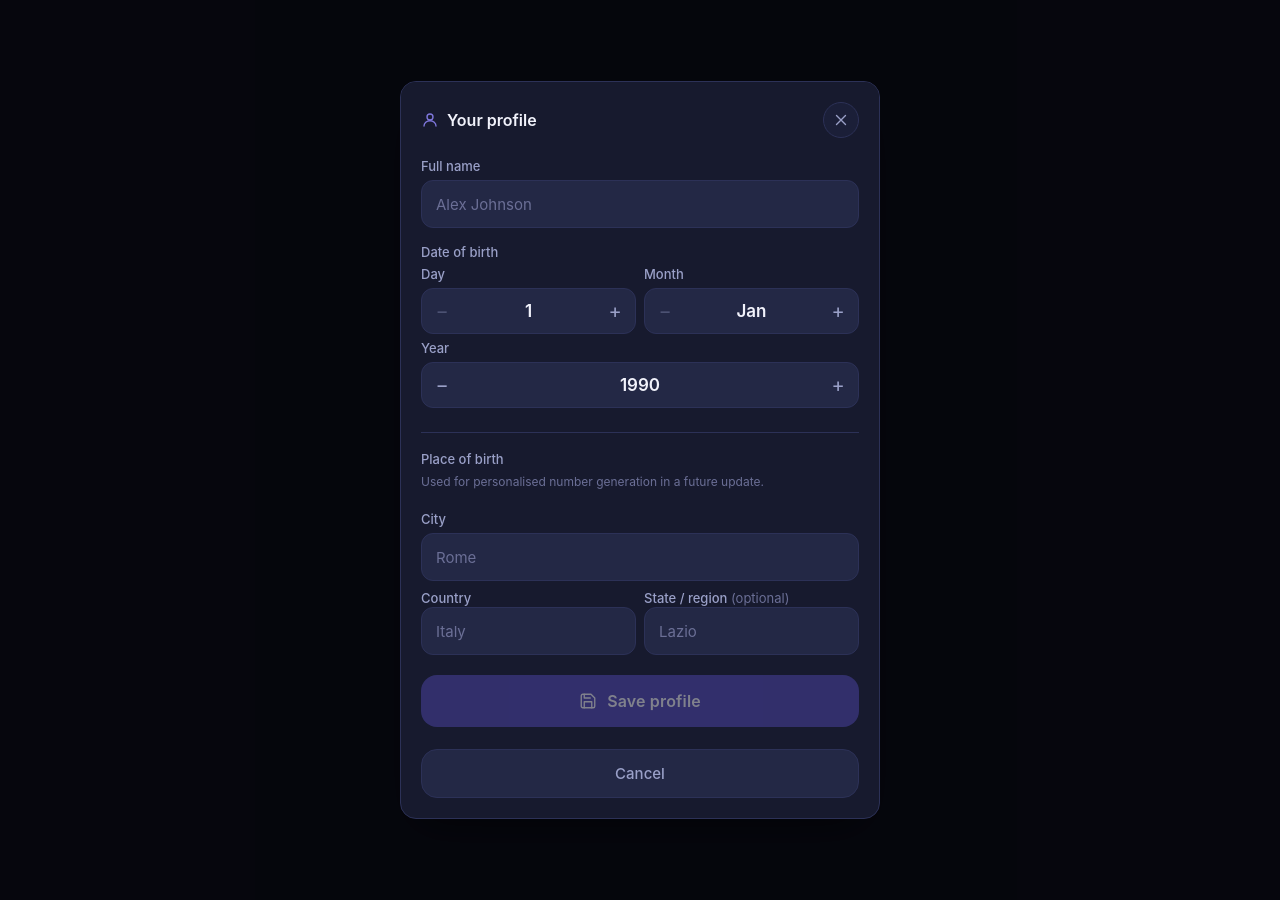
Test case: ProfileSheet › save button is enabled after typing a name
Type "Gary" into the field with placeholder "Alex Johnson" at (640, 204), box [421,180,859,228]
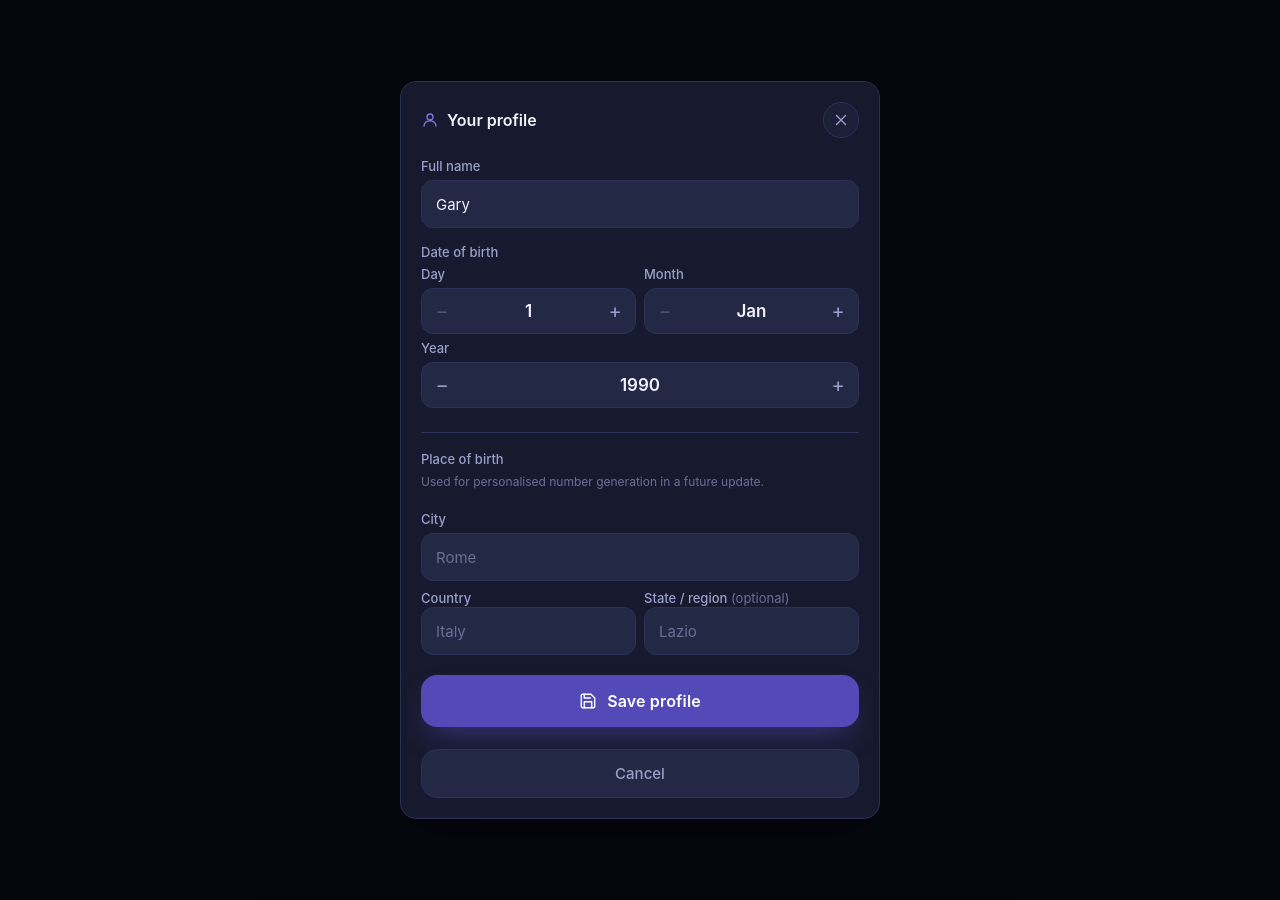
Expected: the button "Save profile" is enabled, [421,675,859,727]
